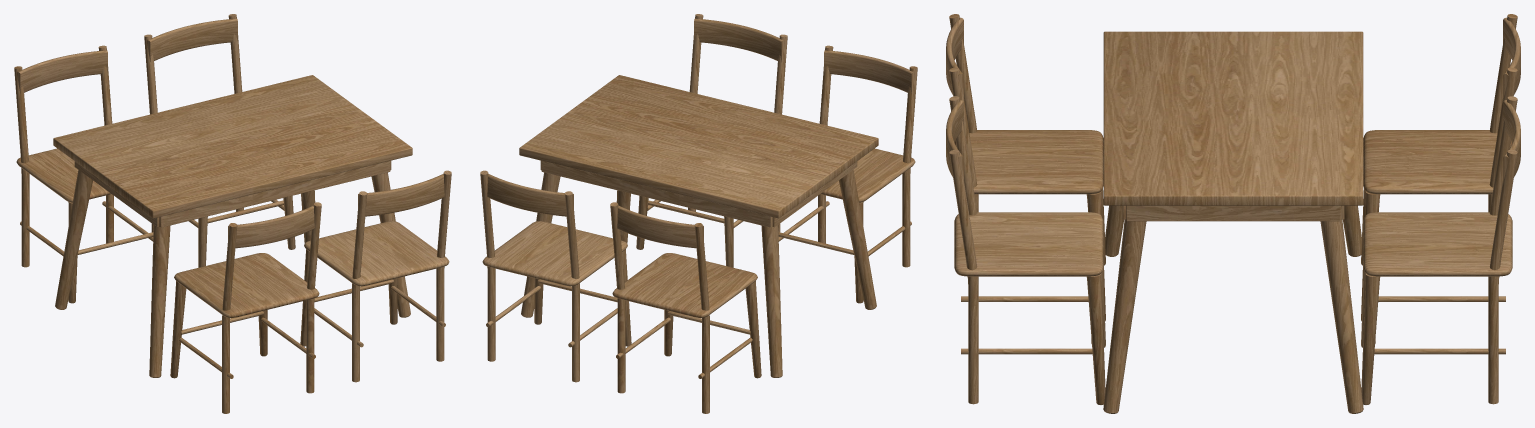
File: set_comedor_rectangular_4.glb
3 renders of one model, left to right at view 1: azimuth 30°, elevation 25°; view 2: azimuth 150°, elevation 25°; view 3: azimuth 270°, elevation 25°, orthographic. The views are drawn at different scales.
Parts seen in each view (by area): view 1: set_comedor_rectangular_4; view 2: set_comedor_rectangular_4; view 3: set_comedor_rectangular_4.
Boxes of the visible parts, x1,y1,x2,y2 form: set_comedor_rectangular_4: (14,14,451,413); set_comedor_rectangular_4: (480,14,917,413); set_comedor_rectangular_4: (946,14,1520,413).
Size of the model in its own units: 1.2 by 0.8526 by 1.77.
Materials: 1 (1 with a texture image).
